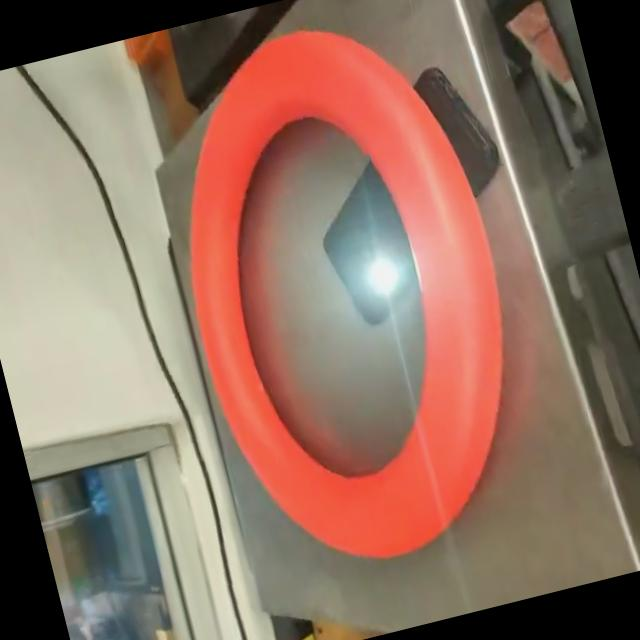note: (131, 0, 562, 596)
